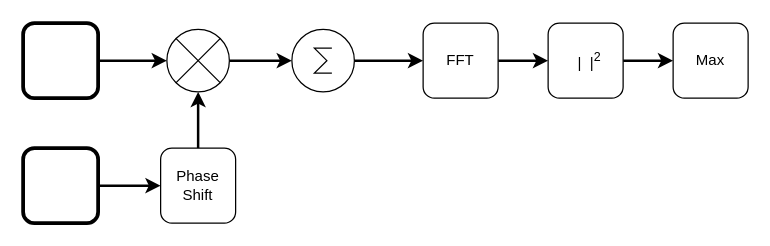
Image size: 770x246. Some labels were removed from this diagram. The shapes that lost their labels are listed below. From the top down, each one's box as (x1, y1, x2, y2) in pixels, then its label:
(21, 21, 99, 99): GPS Signal
(21, 146, 99, 224): C/A Code
